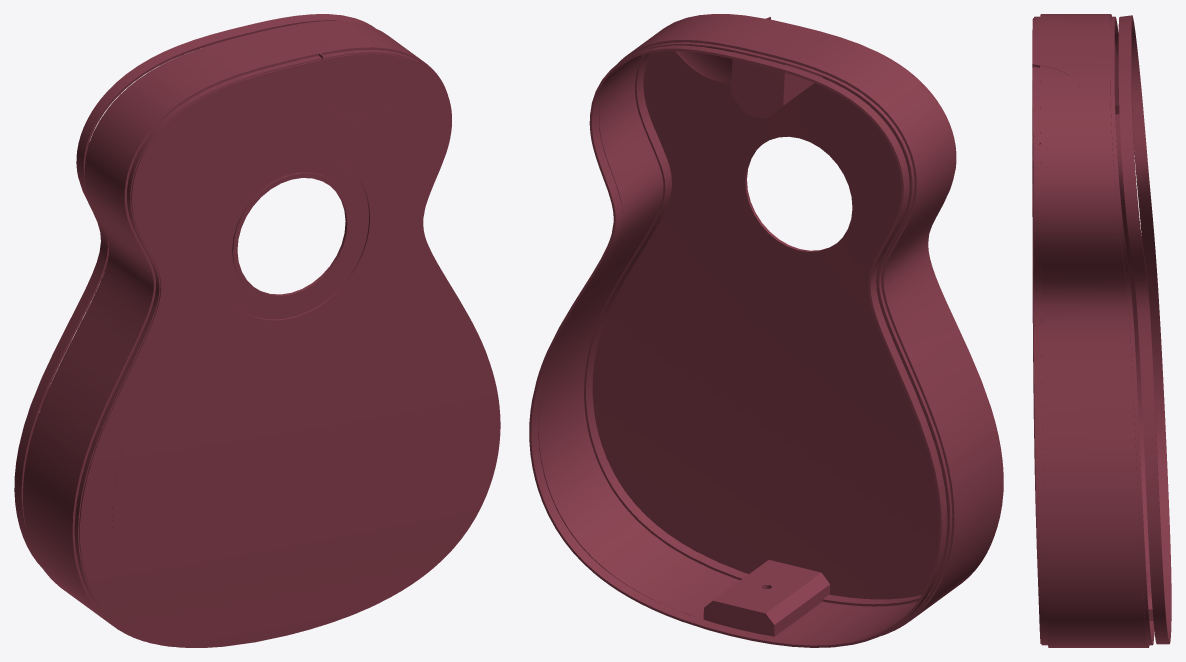
Rendered from Parlor_Collection.glb.
3 views of the same model, side by side, from view 1: azimuth 30°, elevation 25°; view 2: azimuth 150°, elevation 25°; view 3: azimuth 270°, elevation 25° (orthographic). The views are drawn at different scales.
Parts seen in each view (by area): view 1: Body_Soundboard_Arm_Bevel_Cutaway_Venetian.001, Body_Soundboard.001, Body_Soundboard_Florentine_Cutaway.001, Body_Sides_Arm_Bevel_Scalloped_Cutaway.001, Body_Soundboard_Arm_Bevel.001, Body_Sides.001, Body_Soundboard_Venetian_Cutaway.001, Body_Lining_Bottom.001, Body_Soundboard_Arm_Bevel_Cutaway_Florentine.001; view 2: Body_Soundboard.001, Body_Sides_Arm_Bevel_Scalloped_Cutaway.001, Body_Soundboard_Arm_Bevel.001, Body_Sides.001, Body_Soundboard_Florentine_Cutaway.001, Body_Lining_Bottom.001, Body_Soundboard_Arm_Bevel_Cutaway_Venetian.001, Body_Soundboard_Arm_Bevel_Cutaway_Florentine.001, Body_Soundboard_Venetian_Cutaway.001, Body_Lining_Top.001, Body_Tail_Block.004, Body_Heel_Block.004; view 3: Body_Sides.001, Body_Sides_Arm_Bevel_Scalloped_Cutaway.001, Body_Lining_Bottom.001, Body_Soundboard.001, Body_Soundboard_Venetian_Cutaway.001, Body_Soundboard_Arm_Bevel.001, Body_Soundboard_Florentine_Cutaway.001, Body_Soundboard_Arm_Bevel_Cutaway_Venetian.001, Body_Soundboard_Arm_Bevel_Cutaway_Florentine.001, Body_Heel_Block.004, Body_Tail_Block.004.
Part boxes in pixels (x1=…): Body_Soundboard_Arm_Bevel_Cutaway_Venetian.001: x1=115, y1=63, x2=497, y2=640; Body_Soundboard.001: x1=77, y1=52, x2=500, y2=647; Body_Soundboard_Florentine_Cutaway.001: x1=84, y1=61, x2=500, y2=647; Body_Sides_Arm_Bevel_Scalloped_Cutaway.001: x1=23, y1=21, x2=487, y2=647; Body_Soundboard_Arm_Bevel.001: x1=112, y1=51, x2=500, y2=643; Body_Sides.001: x1=23, y1=21, x2=485, y2=647; Body_Soundboard_Venetian_Cutaway.001: x1=78, y1=58, x2=500, y2=646; Body_Lining_Bottom.001: x1=14, y1=14, x2=375, y2=567; Body_Soundboard_Arm_Bevel_Cutaway_Florentine.001: x1=113, y1=59, x2=500, y2=643; Body_Soundboard.001: x1=592, y1=14, x2=1003, y2=599; Body_Sides_Arm_Bevel_Scalloped_Cutaway.001: x1=538, y1=17, x2=1002, y2=640; Body_Soundboard_Arm_Bevel.001: x1=592, y1=14, x2=956, y2=592; Body_Sides.001: x1=538, y1=14, x2=1002, y2=640; Body_Soundboard_Florentine_Cutaway.001: x1=592, y1=58, x2=948, y2=584; Body_Lining_Bottom.001: x1=529, y1=45, x2=947, y2=647; Body_Soundboard_Arm_Bevel_Cutaway_Venetian.001: x1=644, y1=67, x2=921, y2=566; Body_Soundboard_Arm_Bevel_Cutaway_Florentine.001: x1=594, y1=58, x2=922, y2=572; Body_Soundboard_Venetian_Cutaway.001: x1=597, y1=20, x2=934, y2=595; Body_Lining_Top.001: x1=584, y1=53, x2=929, y2=606; Body_Tail_Block.004: x1=703, y1=560, x2=830, y2=636; Body_Heel_Block.004: x1=730, y1=51, x2=822, y2=118; Body_Sides.001: x1=1036, y1=14, x2=1154, y2=647; Body_Sides_Arm_Bevel_Scalloped_Cutaway.001: x1=1032, y1=14, x2=1154, y2=647; Body_Lining_Bottom.001: x1=1118, y1=15, x2=1171, y2=644; Body_Soundboard.001: x1=1032, y1=16, x2=1043, y2=644; Body_Soundboard_Venetian_Cutaway.001: x1=1032, y1=19, x2=1043, y2=644; Body_Soundboard_Arm_Bevel.001: x1=1032, y1=16, x2=1043, y2=645; Body_Soundboard_Florentine_Cutaway.001: x1=1032, y1=147, x2=1043, y2=642; Body_Soundboard_Arm_Bevel_Cutaway_Venetian.001: x1=1032, y1=141, x2=1038, y2=604; Body_Soundboard_Arm_Bevel_Cutaway_Florentine.001: x1=1032, y1=157, x2=1043, y2=645; Body_Heel_Block.004: x1=1114, y1=42, x2=1119, y2=114; Body_Tail_Block.004: x1=1146, y1=570, x2=1153, y2=620.
Bounding box in the file's own units: 0.3754 × 0.4858 × 0.1096.
